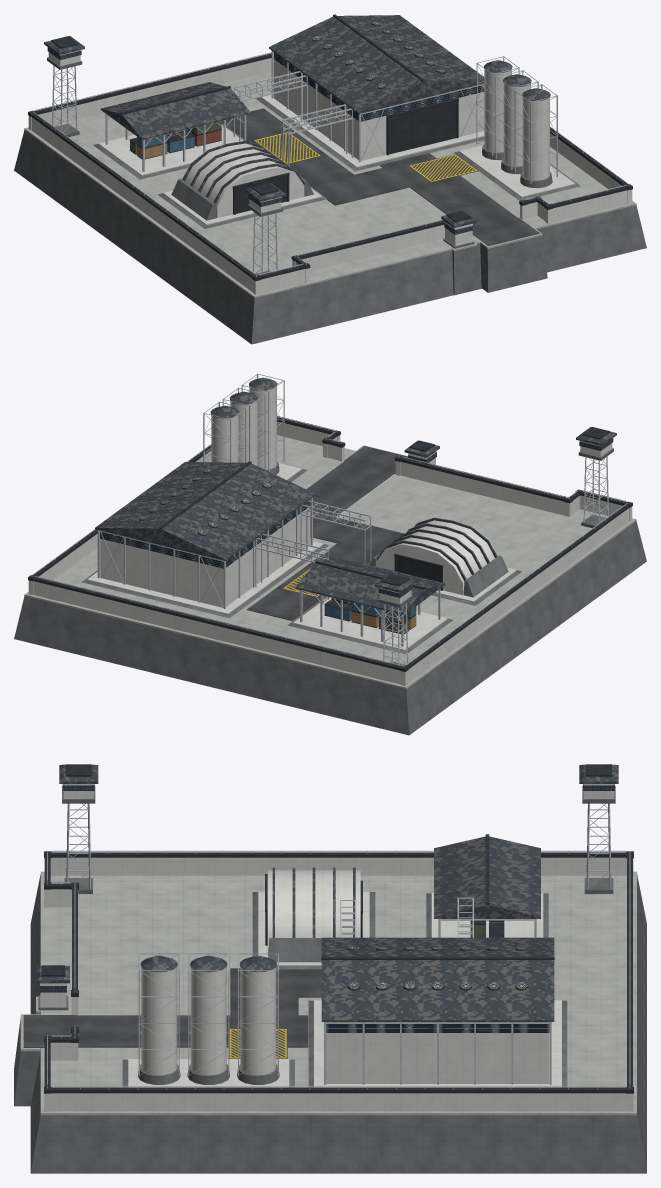
File: logistics_camp_lvl3.glb
3 renders of one model, top to bottom at view 1: azimuth 30°, elevation 25°; view 2: azimuth 150°, elevation 25°; view 3: azimuth 270°, elevation 25°, orthographic. The views are drawn at different scales.
Visible parts, largest first — view 1: LOG_L3_ConcDark, LOG_L3_ConcLight, LOG_L3_ConcMid, LOG_L3_RoofCorr, LOG_L3_SteelTruss, LOG_L3_Asphalt, LOG_L3_SteelDark, LOG_L3_DoorCorr, LOG_L3_HatchZone, LOG_L3_WindowDark, LOG_L3_ContBlue, LOG_L3_RoofVent; view 2: LOG_L3_ConcLight, LOG_L3_ConcDark, LOG_L3_ConcMid, LOG_L3_RoofCorr, LOG_L3_SteelTruss, LOG_L3_SteelDark, LOG_L3_Asphalt, LOG_L3_WindowDark, LOG_L3_DoorCorr, LOG_L3_ContBlue; view 3: LOG_L3_ConcLight, LOG_L3_ConcMid, LOG_L3_ConcDark, LOG_L3_RoofCorr, LOG_L3_SteelDark, LOG_L3_SteelTruss, LOG_L3_Asphalt, LOG_L3_WindowDark, LOG_L3_RoofVent, LOG_L3_HatchZone.
Part boxes in pixels (<box>): LOG_L3_ConcDark: <box>14,57,646,344</box>; LOG_L3_ConcLight: <box>28,50,632,294</box>; LOG_L3_ConcMid: <box>24,71,636,298</box>; LOG_L3_RoofCorr: <box>44,15,550,227</box>; LOG_L3_SteelTruss: <box>31,50,629,276</box>; LOG_L3_Asphalt: <box>221,108,539,245</box>; LOG_L3_SteelDark: <box>28,14,632,281</box>; LOG_L3_DoorCorr: <box>235,101,456,213</box>; LOG_L3_HatchZone: <box>253,131,478,182</box>; LOG_L3_WindowDark: <box>47,47,484,234</box>; LOG_L3_ContBlue: <box>137,129,194,152</box>; LOG_L3_RoofVent: <box>312,22,445,87</box>; LOG_L3_ConcLight: <box>28,386,632,685</box>; LOG_L3_ConcDark: <box>14,448,646,735</box>; LOG_L3_ConcMid: <box>24,435,636,689</box>; LOG_L3_RoofCorr: <box>95,377,616,614</box>; LOG_L3_SteelTruss: <box>31,373,629,667</box>; LOG_L3_SteelDark: <box>28,417,632,672</box>; LOG_L3_Asphalt: <box>247,446,407,620</box>; LOG_L3_WindowDark: <box>100,438,613,597</box>; LOG_L3_DoorCorr: <box>397,557,440,582</box>; LOG_L3_ContBlue: <box>324,602,416,620</box>; LOG_L3_ConcLight: <box>40,784,633,1111</box>; LOG_L3_ConcMid: <box>20,871,636,1115</box>; LOG_L3_ConcDark: <box>14,785,646,1173</box>; LOG_L3_RoofCorr: <box>36,764,618,1021</box>; LOG_L3_SteelDark: <box>41,764,633,1093</box>; LOG_L3_SteelTruss: <box>47,803,630,1089</box>; LOG_L3_Asphalt: <box>23,968,321,1047</box>; LOG_L3_WindowDark: <box>39,784,614,1032</box>; LOG_L3_RoofVent: <box>348,946,527,989</box>; LOG_L3_HatchZone: <box>229,1028,287,1058</box>.
Size of the model in its own units: 95.5 by 31.5 by 102.
Materials: 15 (15 with a texture image).
